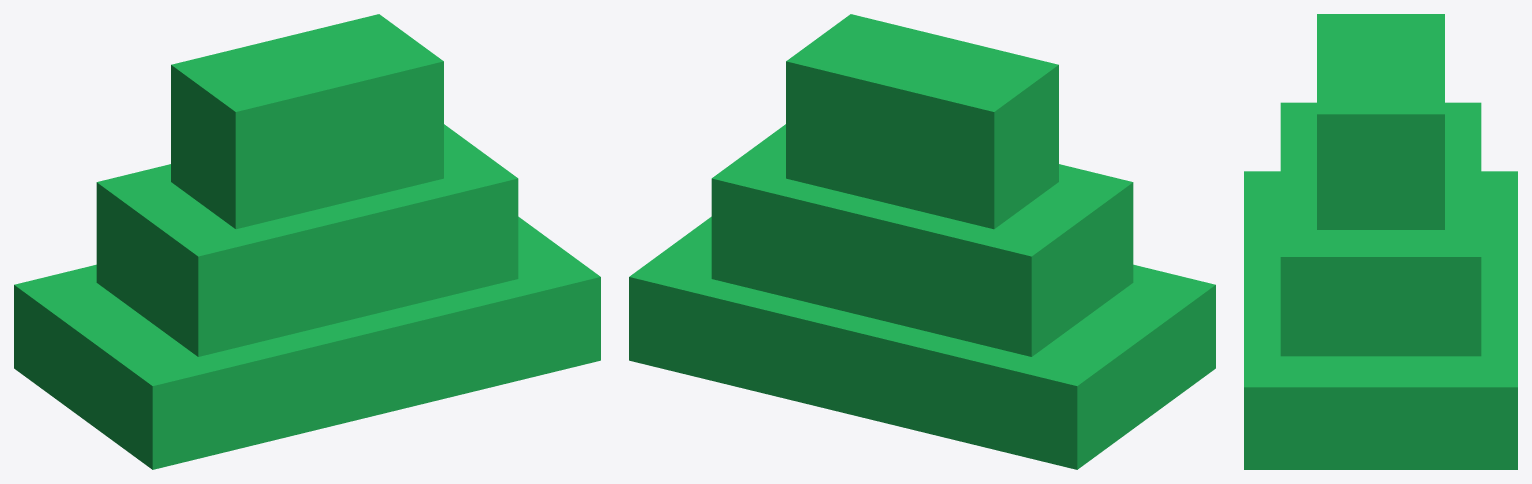
The model's file is stepped-fixture.glb.
3 renders of one model, left to right at view 1: azimuth 30°, elevation 25°; view 2: azimuth 150°, elevation 25°; view 3: azimuth 270°, elevation 25°, orthographic.
Size of the model in its own units: 140 by 90 by 75.
